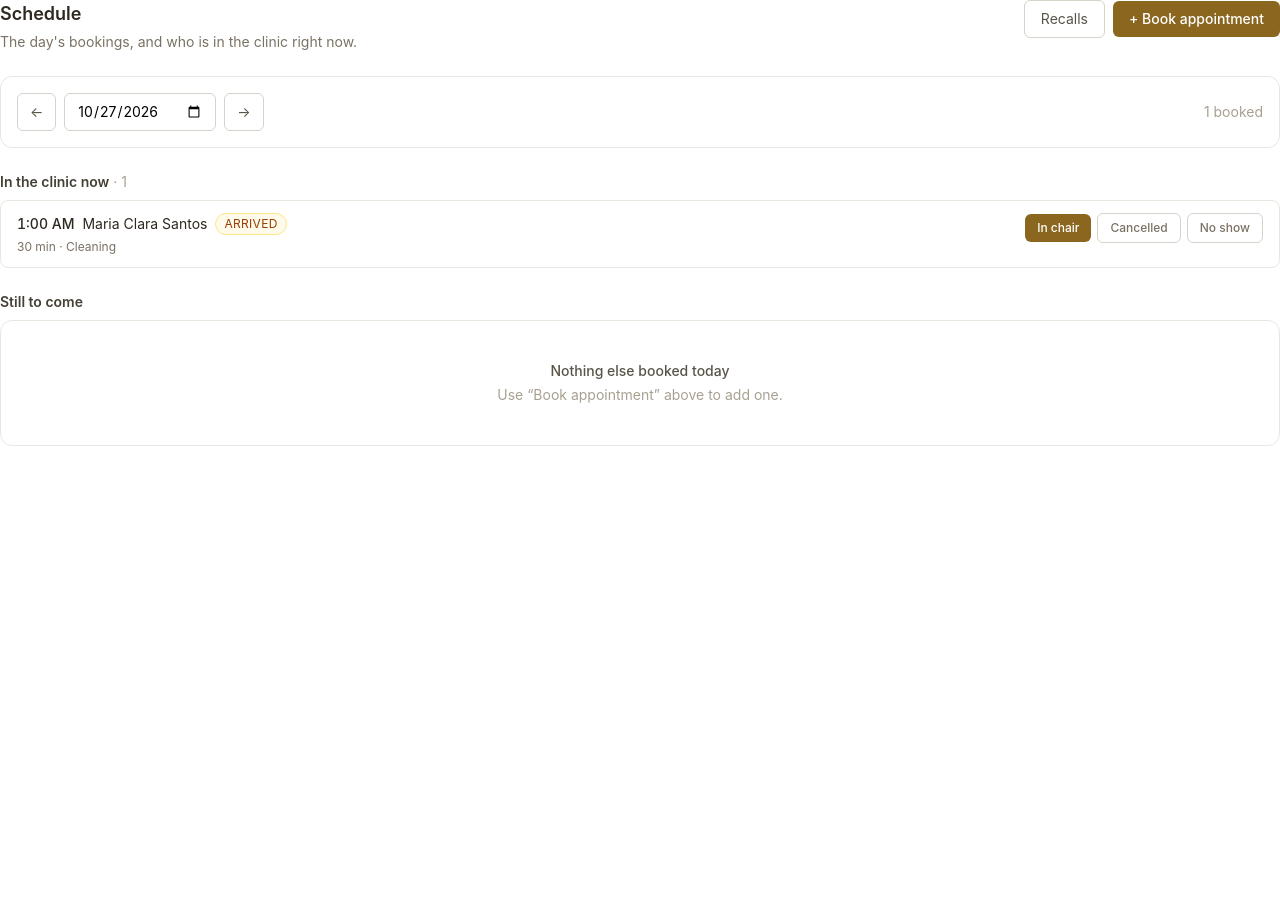
SchedulePage › says so when the booking has no dentist on it
Click the button "In chair": [1058, 228] box 1025,214 -> 1092,242
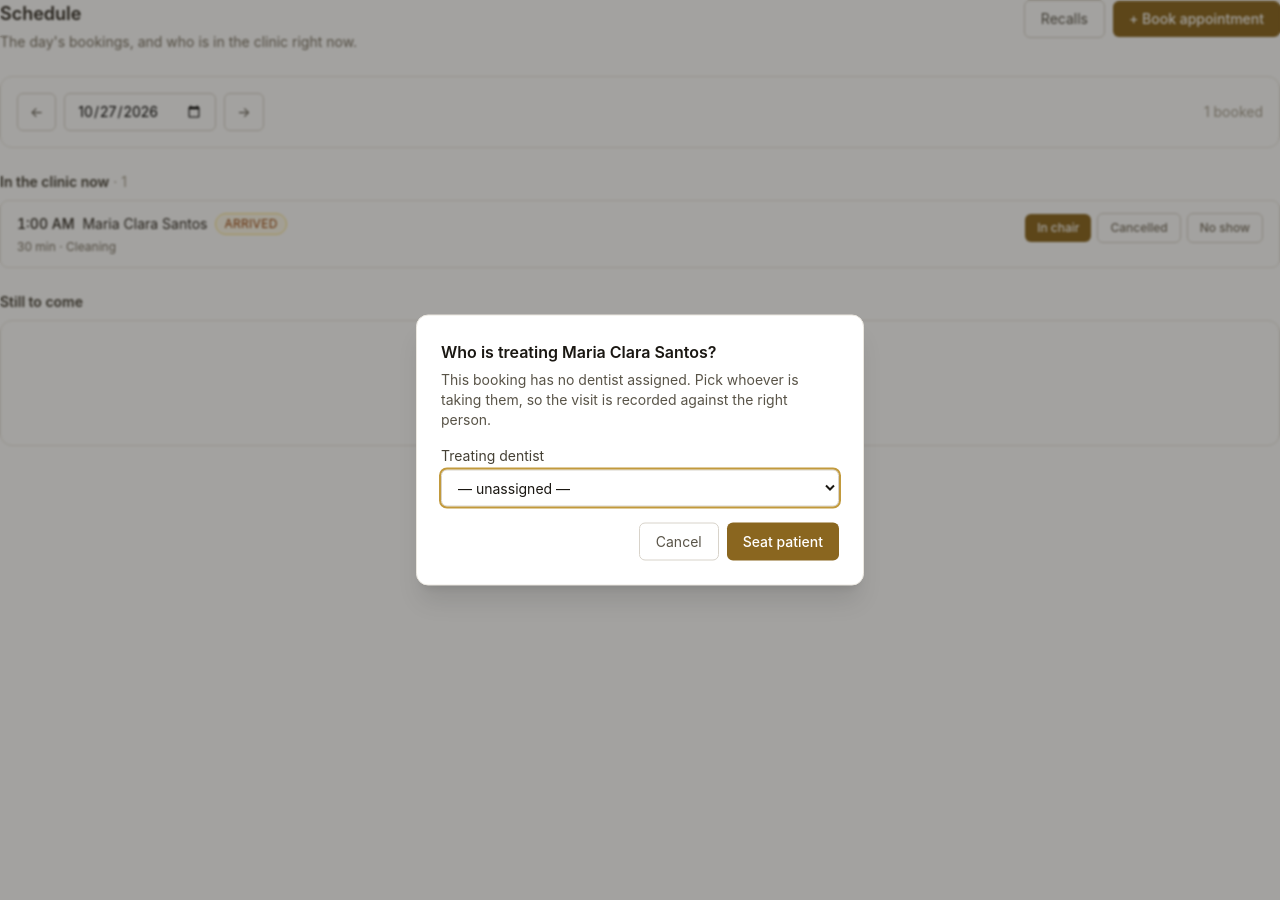
Expected: the dialog shows "no dentist assigned", 441,370 -> 798,428
